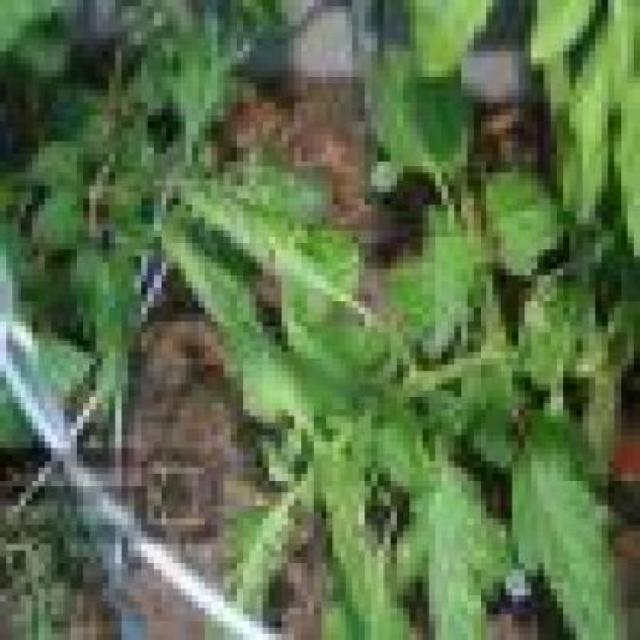Healthy Leaf: (492, 409, 628, 634), (384, 409, 505, 634), (173, 243, 301, 423), (365, 44, 473, 198), (70, 237, 147, 429), (480, 172, 569, 282), (358, 390, 442, 493), (390, 256, 448, 339)
